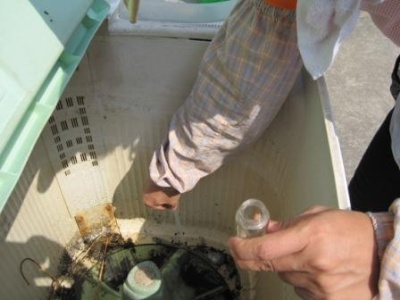washing_machine: (1, 19, 356, 299)
